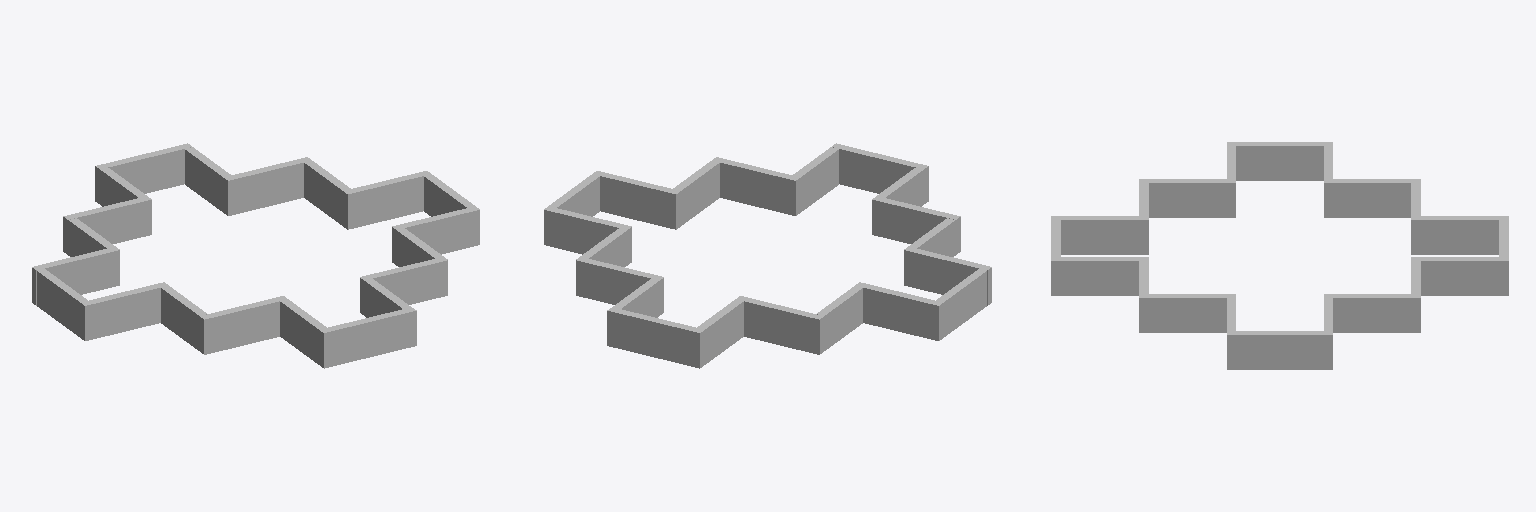
Rendered from wall.obj.
3 views of the same model, side by side, from view 1: azimuth 30°, elevation 25°; view 2: azimuth 150°, elevation 25°; view 3: azimuth 270°, elevation 25° (orthographic).
Visible parts, largest first — view 1: Cube.020, Cube.024, Cube.022, Cube.011, Cube.010, Cube.007, Cube.013, Cube.018, Cube.005, Cube.004, Cube.001, Cube.002 (+8 smaller); view 2: Cube.007, Cube.004, Cube.005, Cube.013, Cube.018, Cube.020, Cube.010, Cube.011, Cube.022, Cube.024, Cube.012, Cube.019 (+8 smaller); view 3: Cube.003, Cube.017, Cube.021, Cube.016, Cube.006, Cube.023, Cube.019, Cube.001, Cube.012, Cube.002, Cube.009, Cube.007 (+5 smaller).
Boxes of the visible parts, <box> form: Cube.020: <box>319,307,416,368</box>; Cube.024: <box>80,284,160,340</box>; Cube.022: <box>200,298,279,354</box>; Cube.011: <box>352,171,430,227</box>; Cube.010: <box>232,157,311,213</box>; Cube.007: <box>95,143,191,203</box>; Cube.013: <box>400,206,479,254</box>; Cube.018: <box>369,257,447,304</box>; Cube.005: <box>63,198,143,254</box>; Cube.004: <box>32,249,111,305</box>; Cube.001: <box>304,161,355,229</box>; Cube.002: <box>185,147,236,215</box>; Cube.007: <box>607,307,704,368</box>; Cube.004: <box>863,284,943,340</box>; Cube.005: <box>744,298,823,354</box>; Cube.013: <box>593,171,671,227</box>; Cube.018: <box>712,157,791,213</box>; Cube.020: <box>832,143,928,203</box>; Cube.010: <box>576,257,654,304</box>; Cube.011: <box>544,206,623,254</box>; Cube.022: <box>880,198,960,254</box>; Cube.024: <box>912,249,991,305</box>; Cube.012: <box>668,161,719,229</box>; Cube.019: <box>787,147,838,215</box>; Cube.003: <box>1411,216,1498,254</box>; Cube.017: <box>1236,331,1323,369</box>; Cube.021: <box>1061,216,1148,254</box>; Cube.016: <box>1236,142,1323,180</box>; Cube.006: <box>1324,179,1410,217</box>; Cube.023: <box>1149,179,1235,217</box>; Cube.019: <box>1061,257,1148,295</box>; Cube.001: <box>1324,294,1410,332</box>; Cube.012: <box>1149,294,1235,332</box>; Cube.002: <box>1411,257,1498,295</box>; Cube.009: <box>1421,262,1498,295</box>; Cube.007: <box>1499,216,1508,295</box>.
Bounding box in the file's own units: 1564 × 134 × 1566.